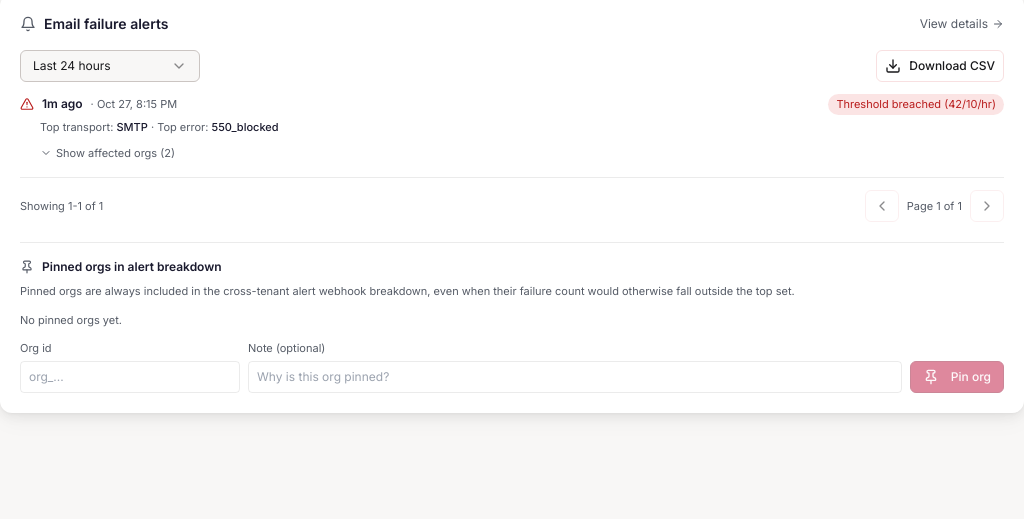
EmailFailureAlertsCard operator-only breakdown (Task #310) › renders the per-org expand/collapse for platform operators with org name, failure count, top transport, and top error
The width and height of the screenshot is (1024, 519).
Click the button with test id "button-email-failure-alert-toggle-orgs-0". click: {"x": 108, "y": 153}
box: [40, 145, 175, 161]
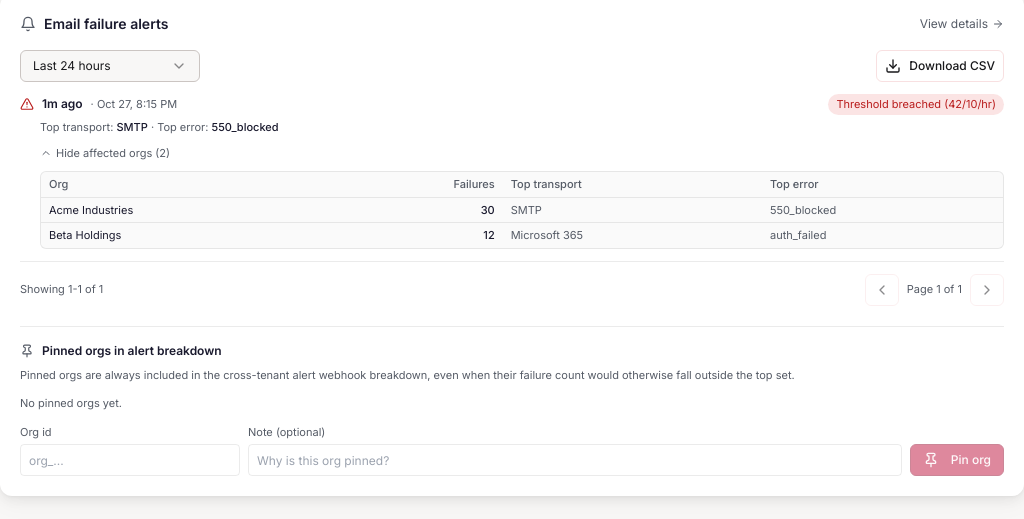
Check: the button with test id "button-email-failure-alert-toggle-orgs-0" is expanded
Check: the button with test id "button-email-failure-alert-toggle-orgs-0" reads "Hide affected orgs (2)"
Check: the element with test id "details-email-failure-alert-orgs-0" is shown, box [40, 171, 1004, 248]
# Collapsing again removes the table from the DOM.
Click the button with test id "button-email-failure-alert-toggle-orgs-0". click: {"x": 105, "y": 153}
box: [40, 145, 170, 161]
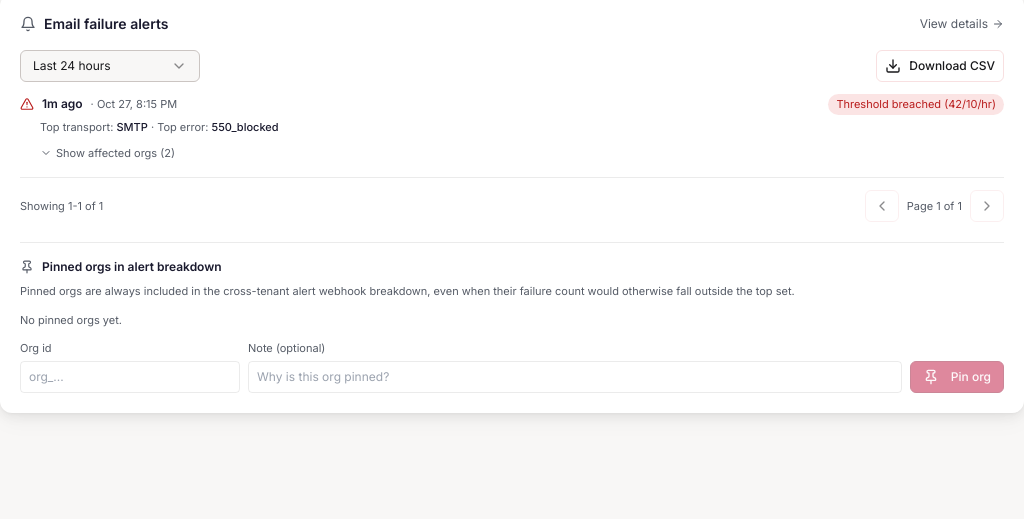
Check: the element with test id "details-email-failure-alert-orgs-0" is gone
